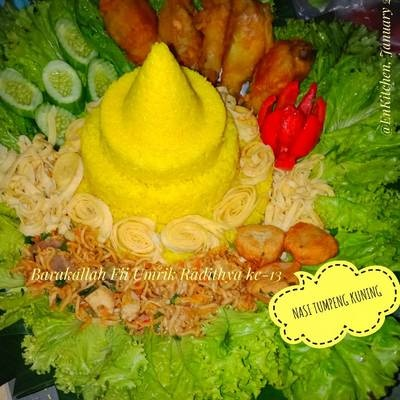tumpeng: (110, 44, 221, 131)
